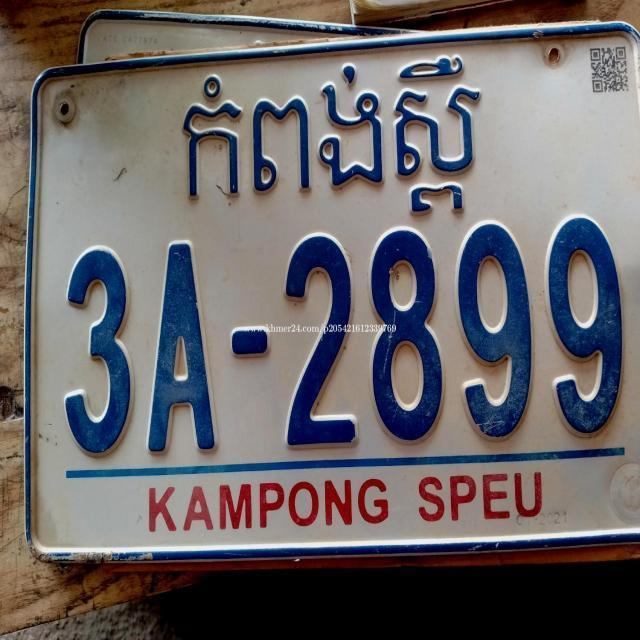Kampong_Speu: (169, 48, 486, 222)
